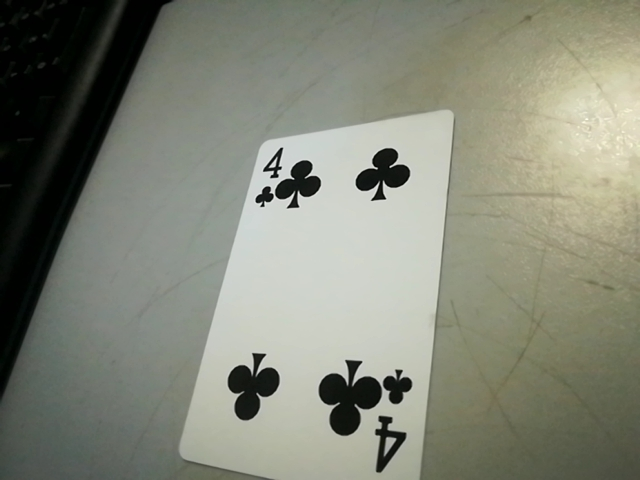mh 4: (369, 361, 424, 480), (245, 143, 291, 211)
